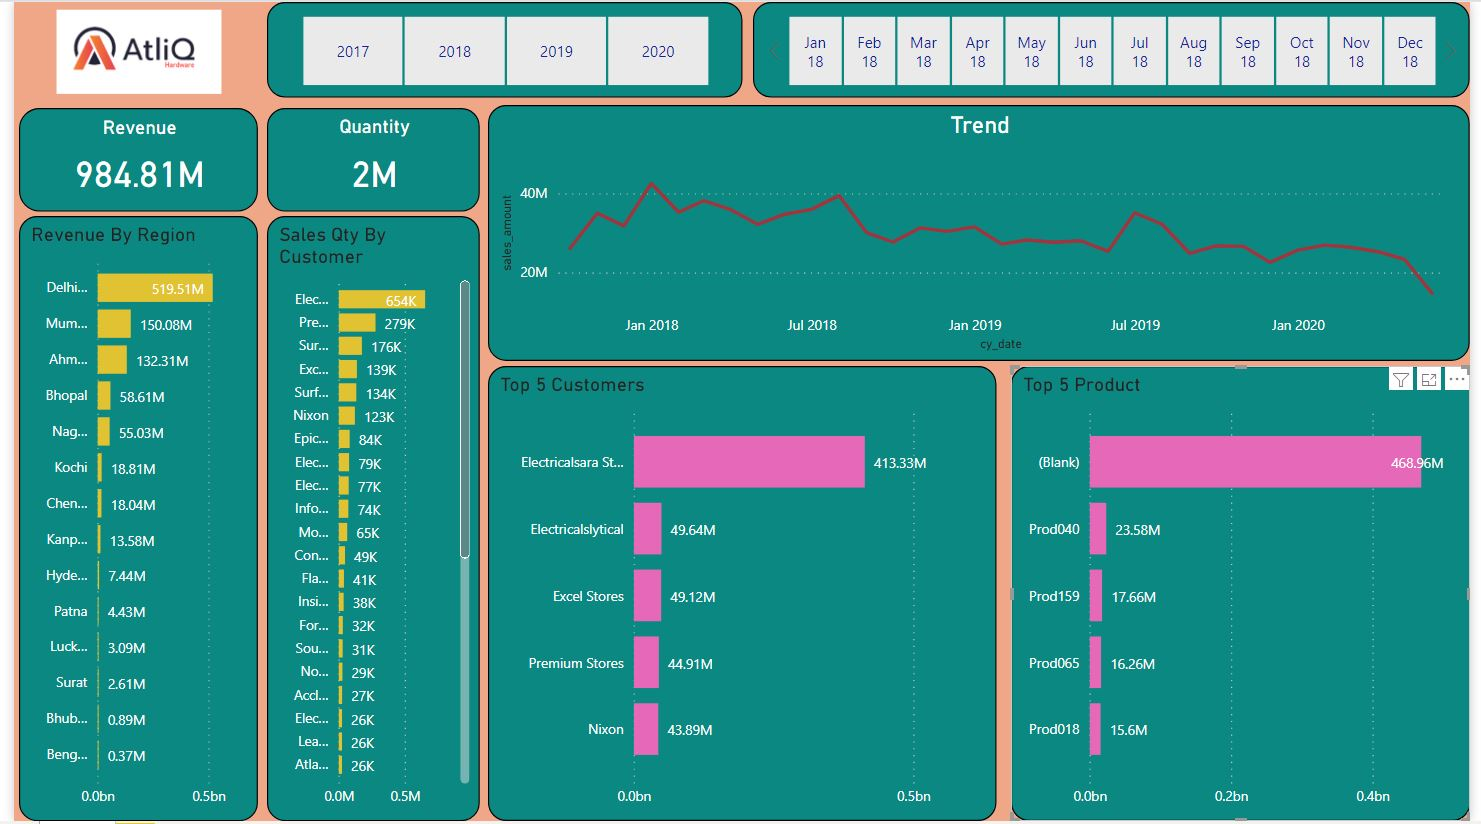

This screenshot's page, from the dashboard's own definition file:
{"tool":"powerbi","page":{"name":"Page 1","canvas":[1280,720],"ordinal":0},"visuals":[{"type":"card","title":"Revenue","fields":{"Values":["sales transactions.sales_amount"]},"box":[9.8,0,184.7,95],"z":0},{"type":"card","title":"Quantity","fields":{"Values":["sales transactions.sales_qty"]},"box":[222.8,4.4,192.7,90.6],"z":1000},{"type":"slicer","fields":{"Values":["sales date.year"]},"box":[415.5,4.4,253,58.6],"z":2000},{"type":"barChart","title":"Revenue By Region","fields":{"Category":["sales markets.markets_name"],"Y":["sales transactions.sales_amount"]},"box":[4.4,95,190,625],"z":3000},{"type":"barChart","title":"Sales Qty By Customer","fields":{"Category":["sales customers.custmer_name"],"Y":["sales transactions.sales_qty"]},"box":[222.8,95,192.7,625],"z":4000},{"type":"slicer","fields":{"Values":["sales date.cy_date"]},"box":[668.5,4.4,611.7,58.6],"z":5000},{"type":"lineChart","title":"Trend","fields":{"Y":["sales transactions.sales_amount"],"Category":["sales date.cy_date"]},"box":[416.4,95,863.8,224.6],"z":6000},{"type":"barChart","title":"Top 5 Customers","fields":{"Category":["sales customers.custmer_name"],"Y":["sales transactions.sales_amount"]},"box":[416.3,320,403.6,399.8],"z":7000},{"type":"barChart","title":"Top 5 Product","fields":{"Category":["sales products.product_code"],"Y":["sales transactions.sales_amount"]},"box":[855,320,403.6,399.8],"z":8000}]}

Visuals, with their boxes in screenshot pixels (x1, y1, x2, y2), scaled from the page's 1280x720 canvas onto the 1481x824 screenshot:
"Revenue" card: [11, 0, 225, 109]
"Quantity" card: [258, 5, 481, 109]
slicer - sales date.year: [481, 5, 773, 72]
"Revenue By Region" barChart: [5, 109, 225, 823]
"Sales Qty By Customer" barChart: [258, 109, 481, 823]
slicer - sales date.cy_date: [773, 5, 1480, 72]
"Trend" lineChart: [482, 109, 1480, 366]
"Top 5 Customers" barChart: [482, 366, 949, 823]
"Top 5 Product" barChart: [989, 366, 1456, 823]
